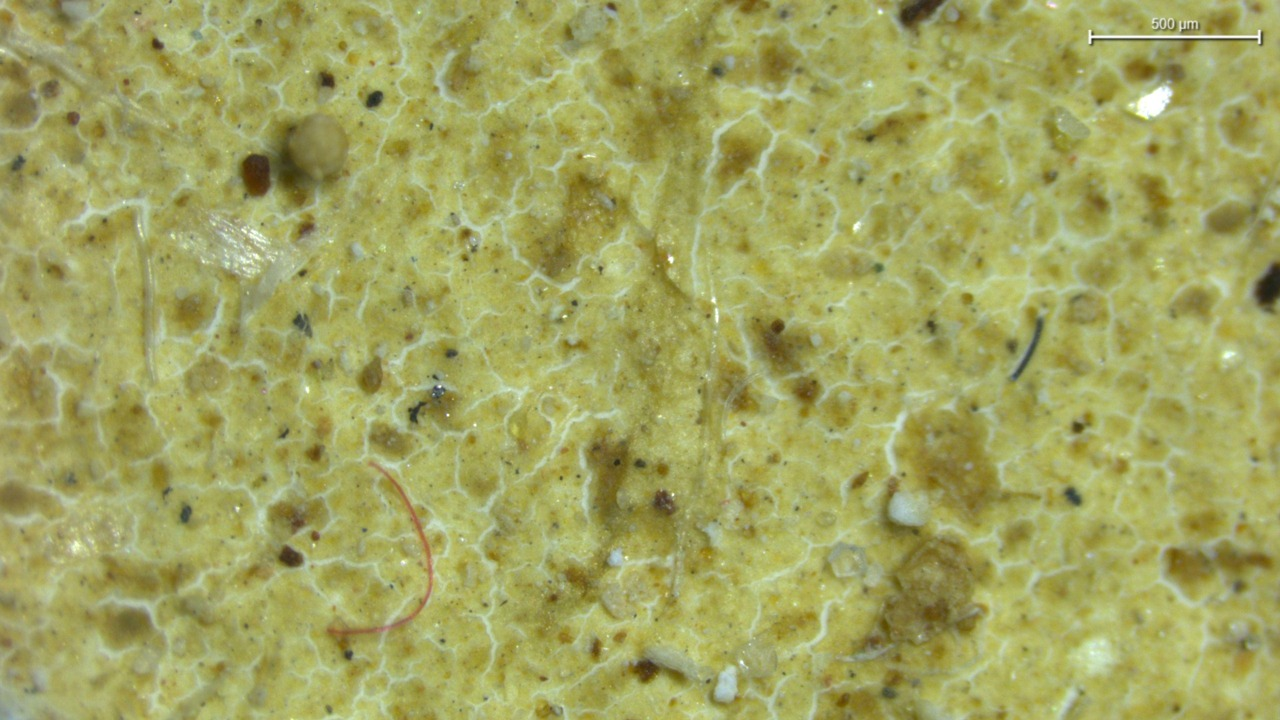microplastic_fragment: (287, 113, 348, 180), (643, 645, 705, 681), (888, 491, 930, 527), (1130, 85, 1173, 119), (713, 666, 738, 704)
